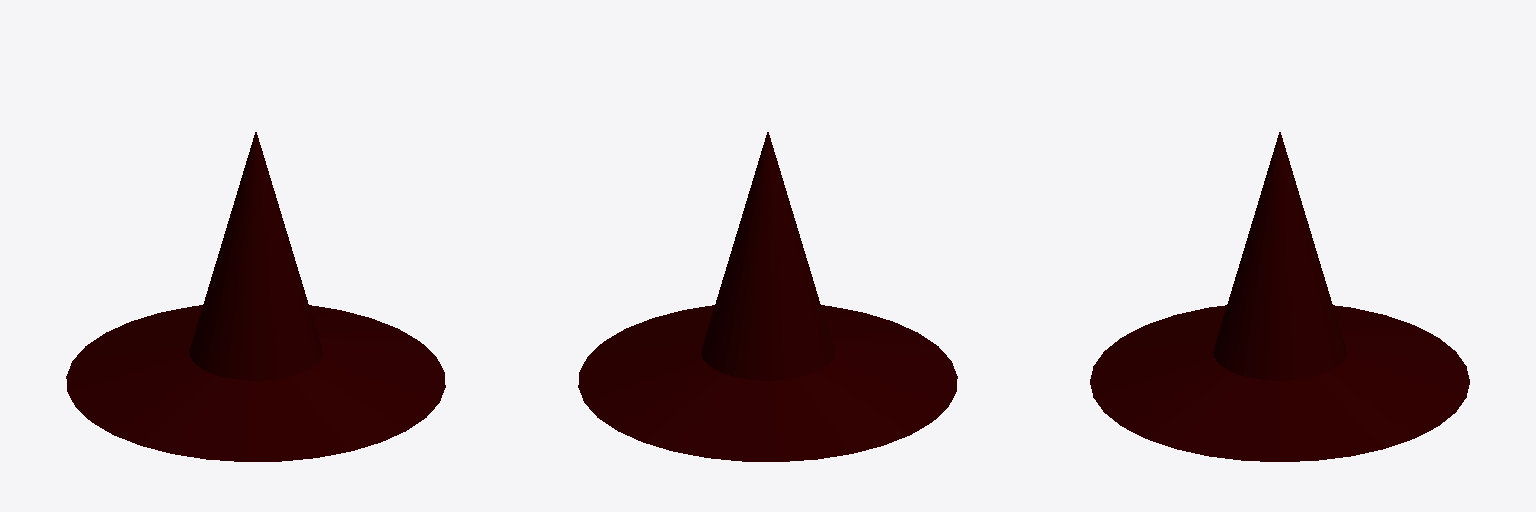
File: RedHat.obj
The picture shows the model from 3 angles: view 1: azimuth 30°, elevation 25°; view 2: azimuth 150°, elevation 25°; view 3: azimuth 270°, elevation 25°; orthographic projection.
Parts seen in each view (by area): view 1: Cylinder; view 2: Cylinder; view 3: Cylinder.
Boxes of the visible parts, x1=… form: Cylinder: x1=66, y1=132, x2=445, y2=461; Cylinder: x1=578, y1=132, x2=957, y2=461; Cylinder: x1=1090, y1=132, x2=1469, y2=461.
Size of the model in its own units: 2.85 by 2.08 by 2.85.